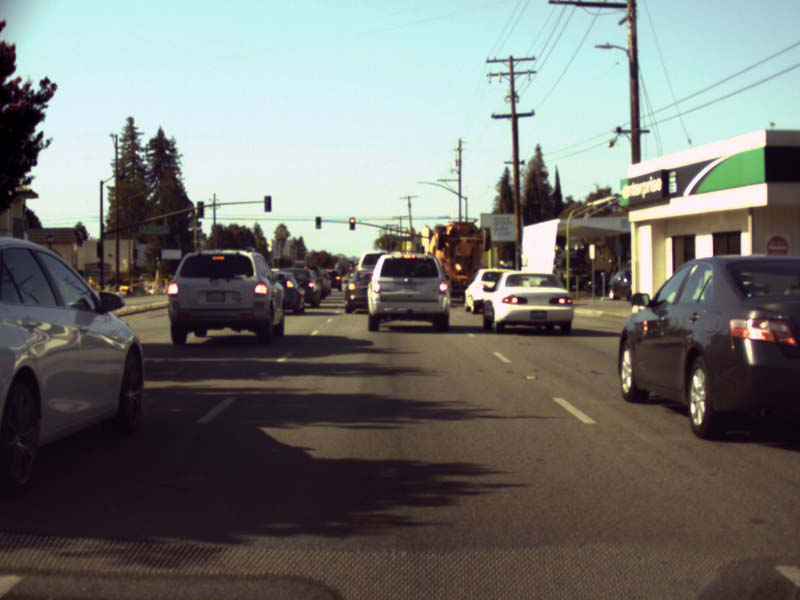Red: (348, 216, 354, 230)
